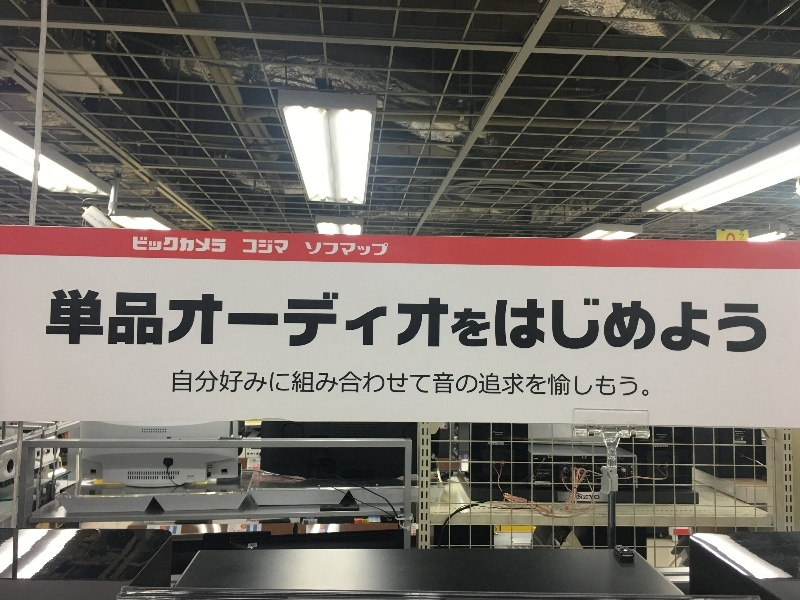text: (753, 286, 769, 355), (49, 286, 64, 355), (65, 286, 80, 355), (81, 286, 96, 355), (97, 286, 112, 355), (113, 286, 128, 355), (129, 286, 144, 355), (145, 286, 160, 355), (161, 286, 176, 355), (177, 286, 192, 355), (193, 286, 208, 355), (209, 286, 224, 355), (225, 286, 240, 355), (241, 286, 256, 355), (257, 286, 272, 355), (273, 286, 288, 355), (289, 286, 304, 355), (305, 286, 320, 355), (321, 286, 336, 355), (337, 286, 352, 355), (353, 286, 368, 355), (369, 286, 384, 355), (385, 286, 400, 355), (401, 286, 416, 355), (417, 286, 432, 355), (433, 286, 448, 355), (449, 286, 464, 355), (465, 286, 480, 355), (481, 286, 496, 355), (497, 286, 512, 355), (513, 286, 528, 355), (529, 286, 544, 355), (545, 286, 560, 355), (561, 286, 576, 355), (577, 286, 592, 355), (593, 286, 608, 355), (609, 286, 624, 355), (625, 286, 640, 355), (641, 286, 656, 355), (657, 286, 672, 355), (673, 286, 688, 355), (689, 286, 704, 355), (705, 286, 720, 355), (721, 286, 736, 355), (737, 286, 752, 355), (177, 368, 192, 401), (193, 368, 208, 401), (209, 368, 224, 401), (225, 368, 240, 401), (241, 368, 256, 401), (257, 368, 272, 401), (273, 368, 288, 401), (289, 368, 304, 401), (305, 368, 320, 401), (321, 368, 336, 401), (337, 368, 352, 401), (353, 368, 368, 401), (369, 368, 384, 401), (385, 368, 400, 401), (401, 368, 416, 401), (417, 368, 432, 401), (433, 368, 448, 401), (449, 368, 464, 401), (465, 368, 480, 401), (481, 368, 496, 401), (497, 368, 512, 401), (513, 368, 528, 401), (529, 368, 544, 401), (545, 368, 560, 401), (561, 368, 576, 401), (577, 368, 592, 401), (593, 368, 608, 401), (609, 368, 624, 401), (625, 368, 640, 401), (641, 368, 652, 401), (273, 239, 289, 255), (145, 237, 160, 253), (161, 237, 176, 253), (177, 237, 192, 253), (193, 237, 208, 253), (209, 237, 224, 253), (257, 239, 272, 255), (305, 242, 320, 257), (321, 242, 336, 257), (337, 242, 352, 257), (353, 242, 368, 257), (369, 242, 384, 257), (243, 239, 256, 255), (133, 237, 144, 253), (46, 286, 48, 355), (738, 232, 752, 241), (174, 368, 176, 401), (385, 242, 389, 257), (225, 237, 226, 253)
